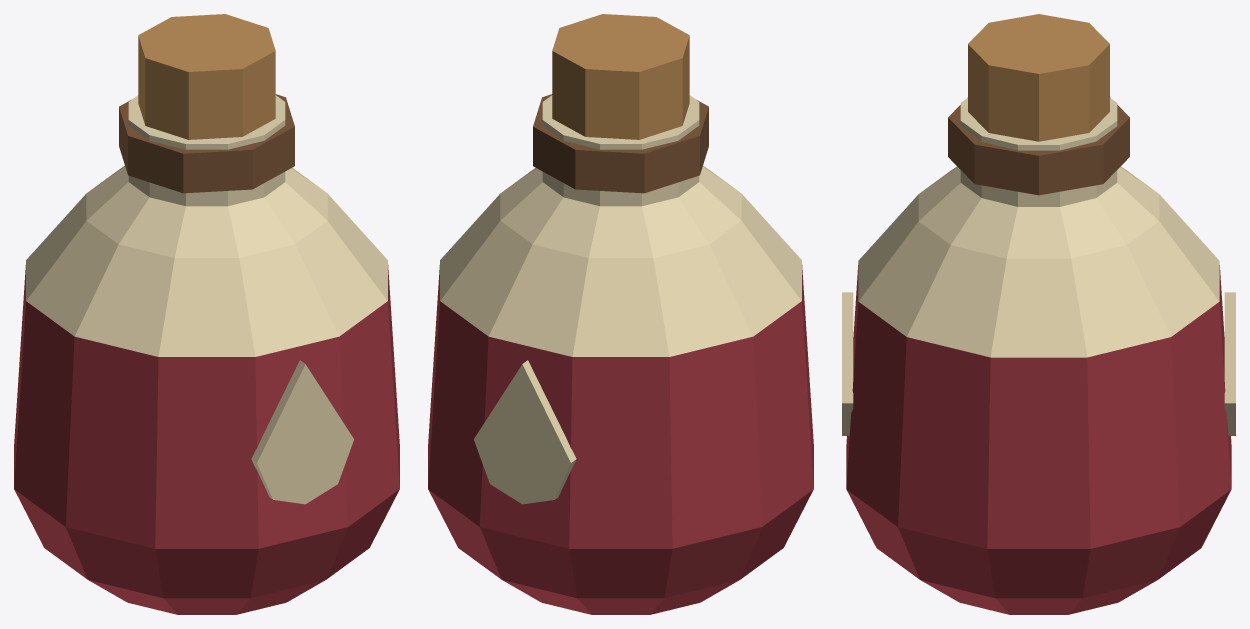
File: consumable_health_potion_quality.glb
3 renders of one model, left to right at view 1: azimuth 30°, elevation 25°; view 2: azimuth 150°, elevation 25°; view 3: azimuth 270°, elevation 25°, orthographic.
Parts seen in each view (by area): view 1: consumable_health_potion_quality; view 2: consumable_health_potion_quality; view 3: consumable_health_potion_quality.
Boxes of the visible parts, <box> form: consumable_health_potion_quality: <box>14,14,399,614</box>; consumable_health_potion_quality: <box>428,14,813,614</box>; consumable_health_potion_quality: <box>842,14,1235,614</box>.
Bounding box in the file's own units: 0.3091 × 0.465 × 0.316.
